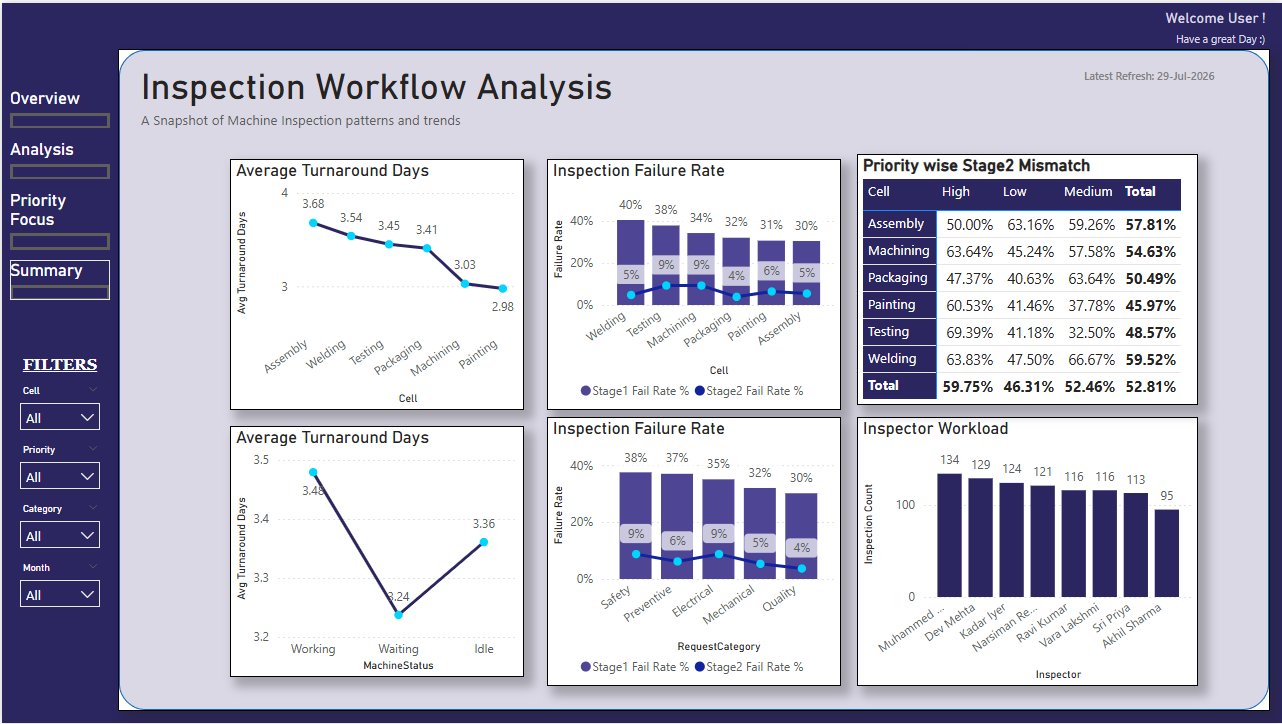

The dashboard page shown, as its layout file describes it:
{"tool":"powerbi","page":{"name":"Analysis","canvas":[1280,720],"ordinal":1},"visuals":[{"type":"shape","box":[116,46,1152,662],"z":0},{"type":"actionButton","title":"Overview","box":[8,85,100,40],"z":1000},{"type":"actionButton","title":"Analysis","box":[8,136,100,40],"z":2000},{"type":"actionButton","title":"Priority Focus","box":[7.8,186.7,100,60],"z":3000},{"type":"actionButton","title":"Summary","box":[7.8,256.7,100,40],"z":4000},{"type":"textbox","box":[8,347,100,281],"z":5000},{"type":"slicer","fields":{"Values":["inspection_master.Cell"]},"box":[8,377,100,59],"z":6000},{"type":"slicer","fields":{"Values":["inspection_master.Priority"]},"box":[8,436,100,59],"z":7000},{"type":"slicer","fields":{"Values":["inspection_master.RequestCategory"]},"box":[8,495,100,59],"z":8000},{"type":"slicer","fields":{"Values":["inspection_master.Month"]},"box":[8,554,100,59],"z":9000},{"type":"textbox","title":"Inspection Workflow Analysis","box":[134,62,537,65],"z":10000},{"type":"textbox","title":"Inspection Command Center","box":[692,71,537,65],"z":11000},{"type":"cardVisual","fields":{"Data":["inspection_master.Last Refresh"]},"box":[1052,47,191,48],"z":12000},{"type":"textbox","title":"Welcome User ! ","box":[968,7,300,39],"z":13000},{"type":"lineChart","title":"Average Turnaround Days","fields":{"Y":["Avg(inspection_master.TotalTurnaroundDays)"],"Category":["inspection_master.Cell"]},"box":[228.2,155.6,293.5,251],"z":14000},{"type":"clusteredColumnChart","title":"Inspector Workload","fields":{"Category":["Inspectors.Inspector"],"Y":["Inspectors.Inspection Count"]},"box":[854.7,413.9,341.3,268.7],"z":15000},{"type":"lineClusteredColumnComboChart","title":"Inspection Failure Rate","fields":{"Category":["inspection_master.Cell"],"Y":["inspection_master.Stage1 Fail Rate %"],"Y2":["inspection_master.Stage2 Fail Rate %"]},"box":[544.6,155.6,294.6,251],"z":16000},{"type":"lineClusteredColumnComboChart","title":"Inspection Failure Rate","fields":{"Y":["inspection_master.Stage1 Fail Rate %"],"Y2":["inspection_master.Stage2 Fail Rate %"],"Category":["inspection_master.RequestCategory"]},"box":[544.6,413.9,294.6,268.7],"z":17000},{"type":"pivotTable","title":"Priority wise Stage2 Mismatch","fields":{"Rows":["inspection_master.Cell"],"Values":["inspection_master.Stage2 Mismatch Rate %"],"Columns":["inspection_master.Priority"]},"box":[854.7,151.4,341.3,251],"z":18000},{"type":"lineChart","title":"Average Turnaround Days","fields":{"Y":["Avg(inspection_master.TotalTurnaroundDays)"],"Category":["inspection_master.MachineStatus"]},"box":[228.2,423.2,293.5,251],"z":19000}]}

Visuals, with their boxes in screenshot pixels (x1, y1, x2, y2), scaled from the page's 1280x720 canvas onto the 1282x724 screenshot:
shape: l=116, t=46, r=1270, b=712
"Overview" actionButton: l=8, t=85, r=108, b=126
"Analysis" actionButton: l=8, t=137, r=108, b=177
"Priority Focus" actionButton: l=8, t=188, r=108, b=248
"Summary" actionButton: l=8, t=258, r=108, b=298
textbox: l=8, t=349, r=108, b=631
slicer - inspection_master.Cell: l=8, t=379, r=108, b=438
slicer - inspection_master.Priority: l=8, t=438, r=108, b=498
slicer - inspection_master.RequestCategory: l=8, t=498, r=108, b=557
slicer - inspection_master.Month: l=8, t=557, r=108, b=616
"Inspection Workflow Analysis" textbox: l=134, t=62, r=672, b=128
"Inspection Command Center" textbox: l=693, t=71, r=1231, b=137
cardVisual - inspection_master.Last Refresh: l=1054, t=47, r=1245, b=96
"Welcome User ! " textbox: l=970, t=7, r=1270, b=46
"Average Turnaround Days" lineChart: l=229, t=156, r=523, b=409
"Inspector Workload" clusteredColumnChart: l=856, t=416, r=1198, b=686
"Inspection Failure Rate" lineClusteredColumnComboChart: l=545, t=156, r=841, b=409
"Inspection Failure Rate" lineClusteredColumnComboChart: l=545, t=416, r=841, b=686
"Priority wise Stage2 Mismatch" pivotTable: l=856, t=152, r=1198, b=405
"Average Turnaround Days" lineChart: l=229, t=426, r=523, b=678
